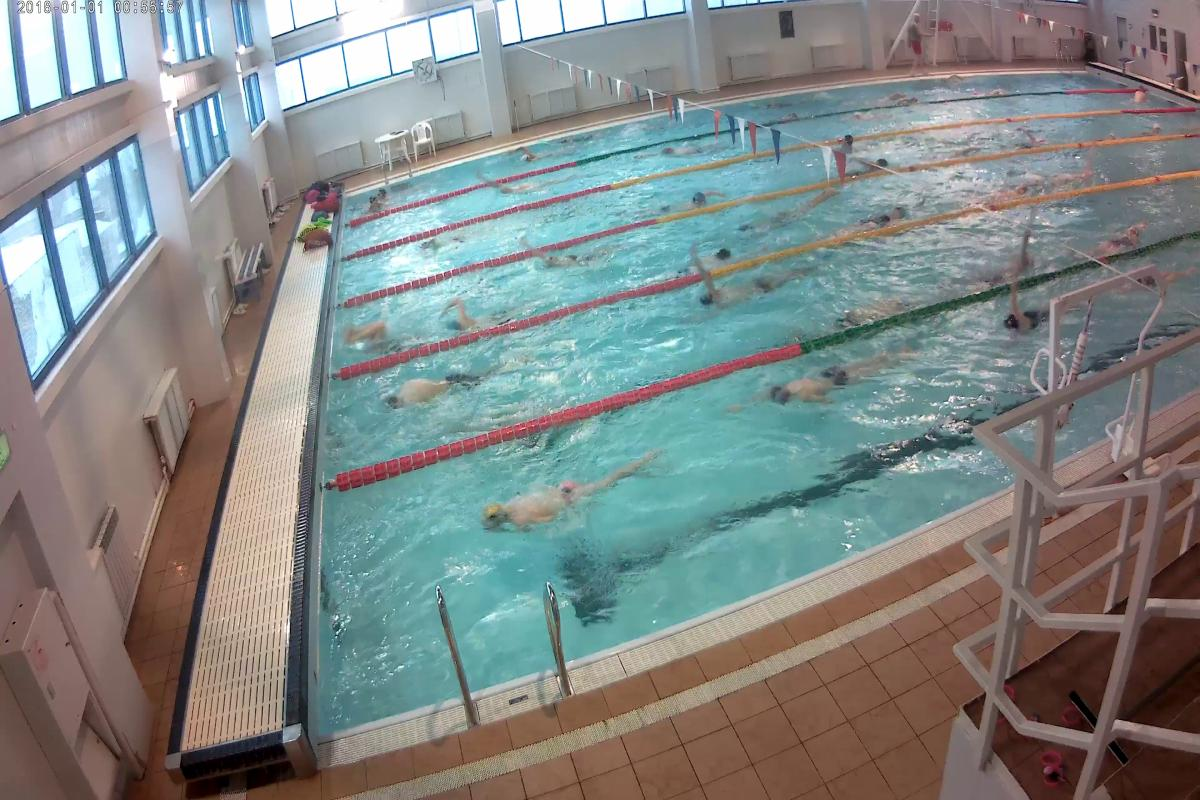swimmer: (476, 456, 664, 536), (736, 342, 912, 419), (377, 360, 505, 411), (695, 264, 811, 312), (747, 188, 838, 234), (436, 290, 515, 336), (336, 305, 403, 357), (1078, 222, 1156, 259), (831, 204, 914, 237), (834, 295, 910, 330), (1000, 294, 1046, 341), (651, 188, 722, 212), (532, 248, 602, 272), (972, 176, 1040, 200), (678, 243, 736, 271), (496, 175, 553, 198), (655, 140, 713, 162), (855, 153, 893, 174)
